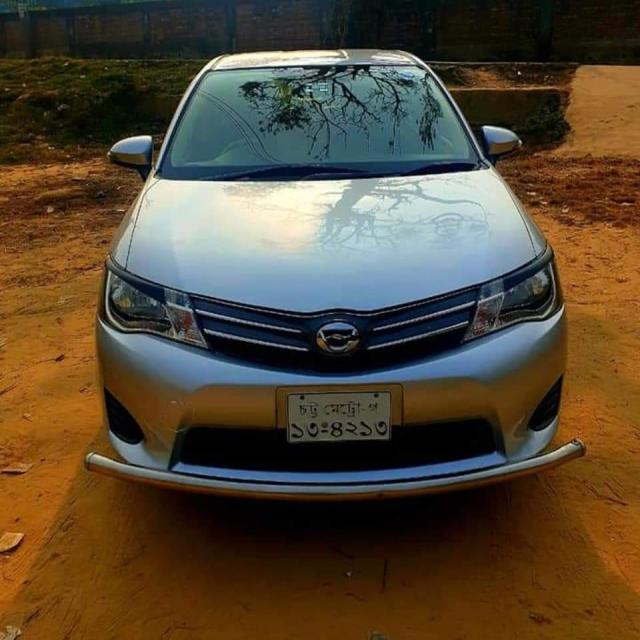silver: (96, 48, 565, 502)
